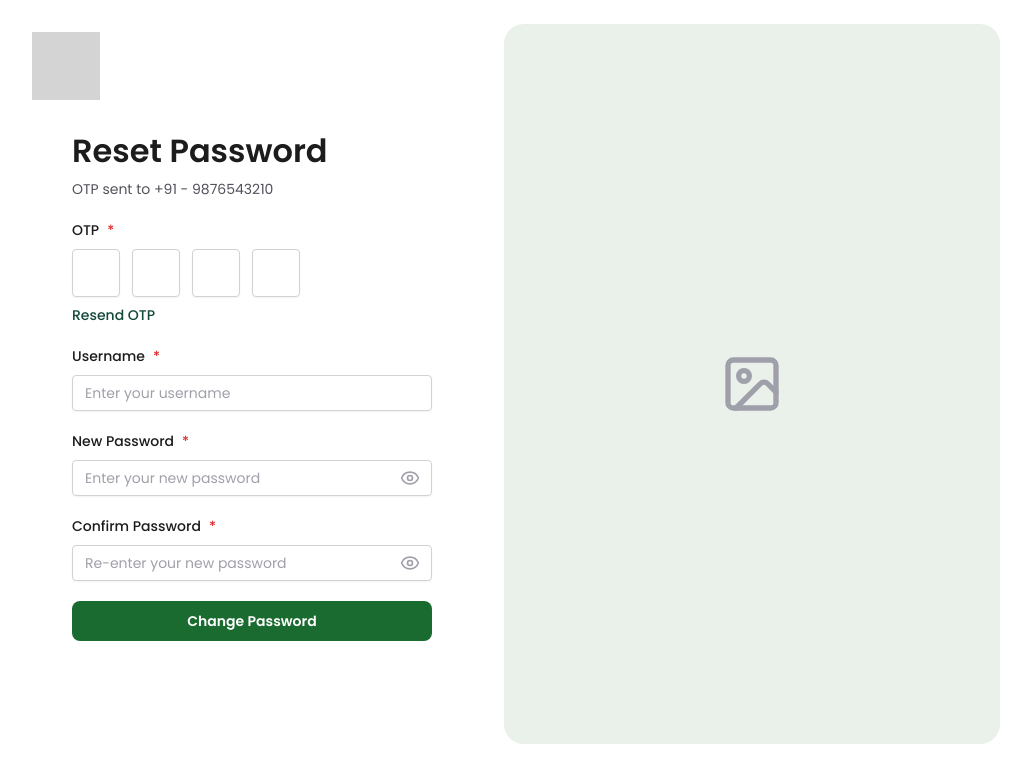
Test: ChangePasswordPage › resends the OTP once the cooldown elapses, toasts success, and restarts the cooldown
The width and height of the screenshot is (1024, 768).
What coordinates should you click on to do the following:
click the button "Resend OTP"
I would click on:
 (114, 316)
Its box is [72,305,155,326].
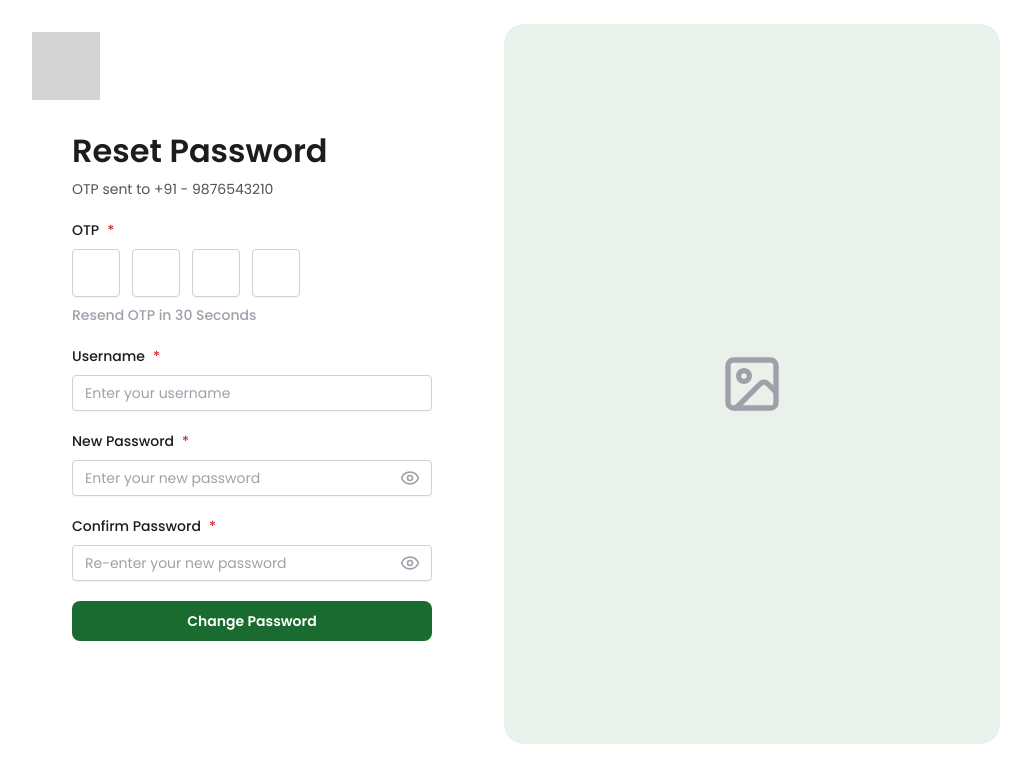
Expected: the button "Resend OTP in 30 Seconds" is disabled, [72,305,256,326]
